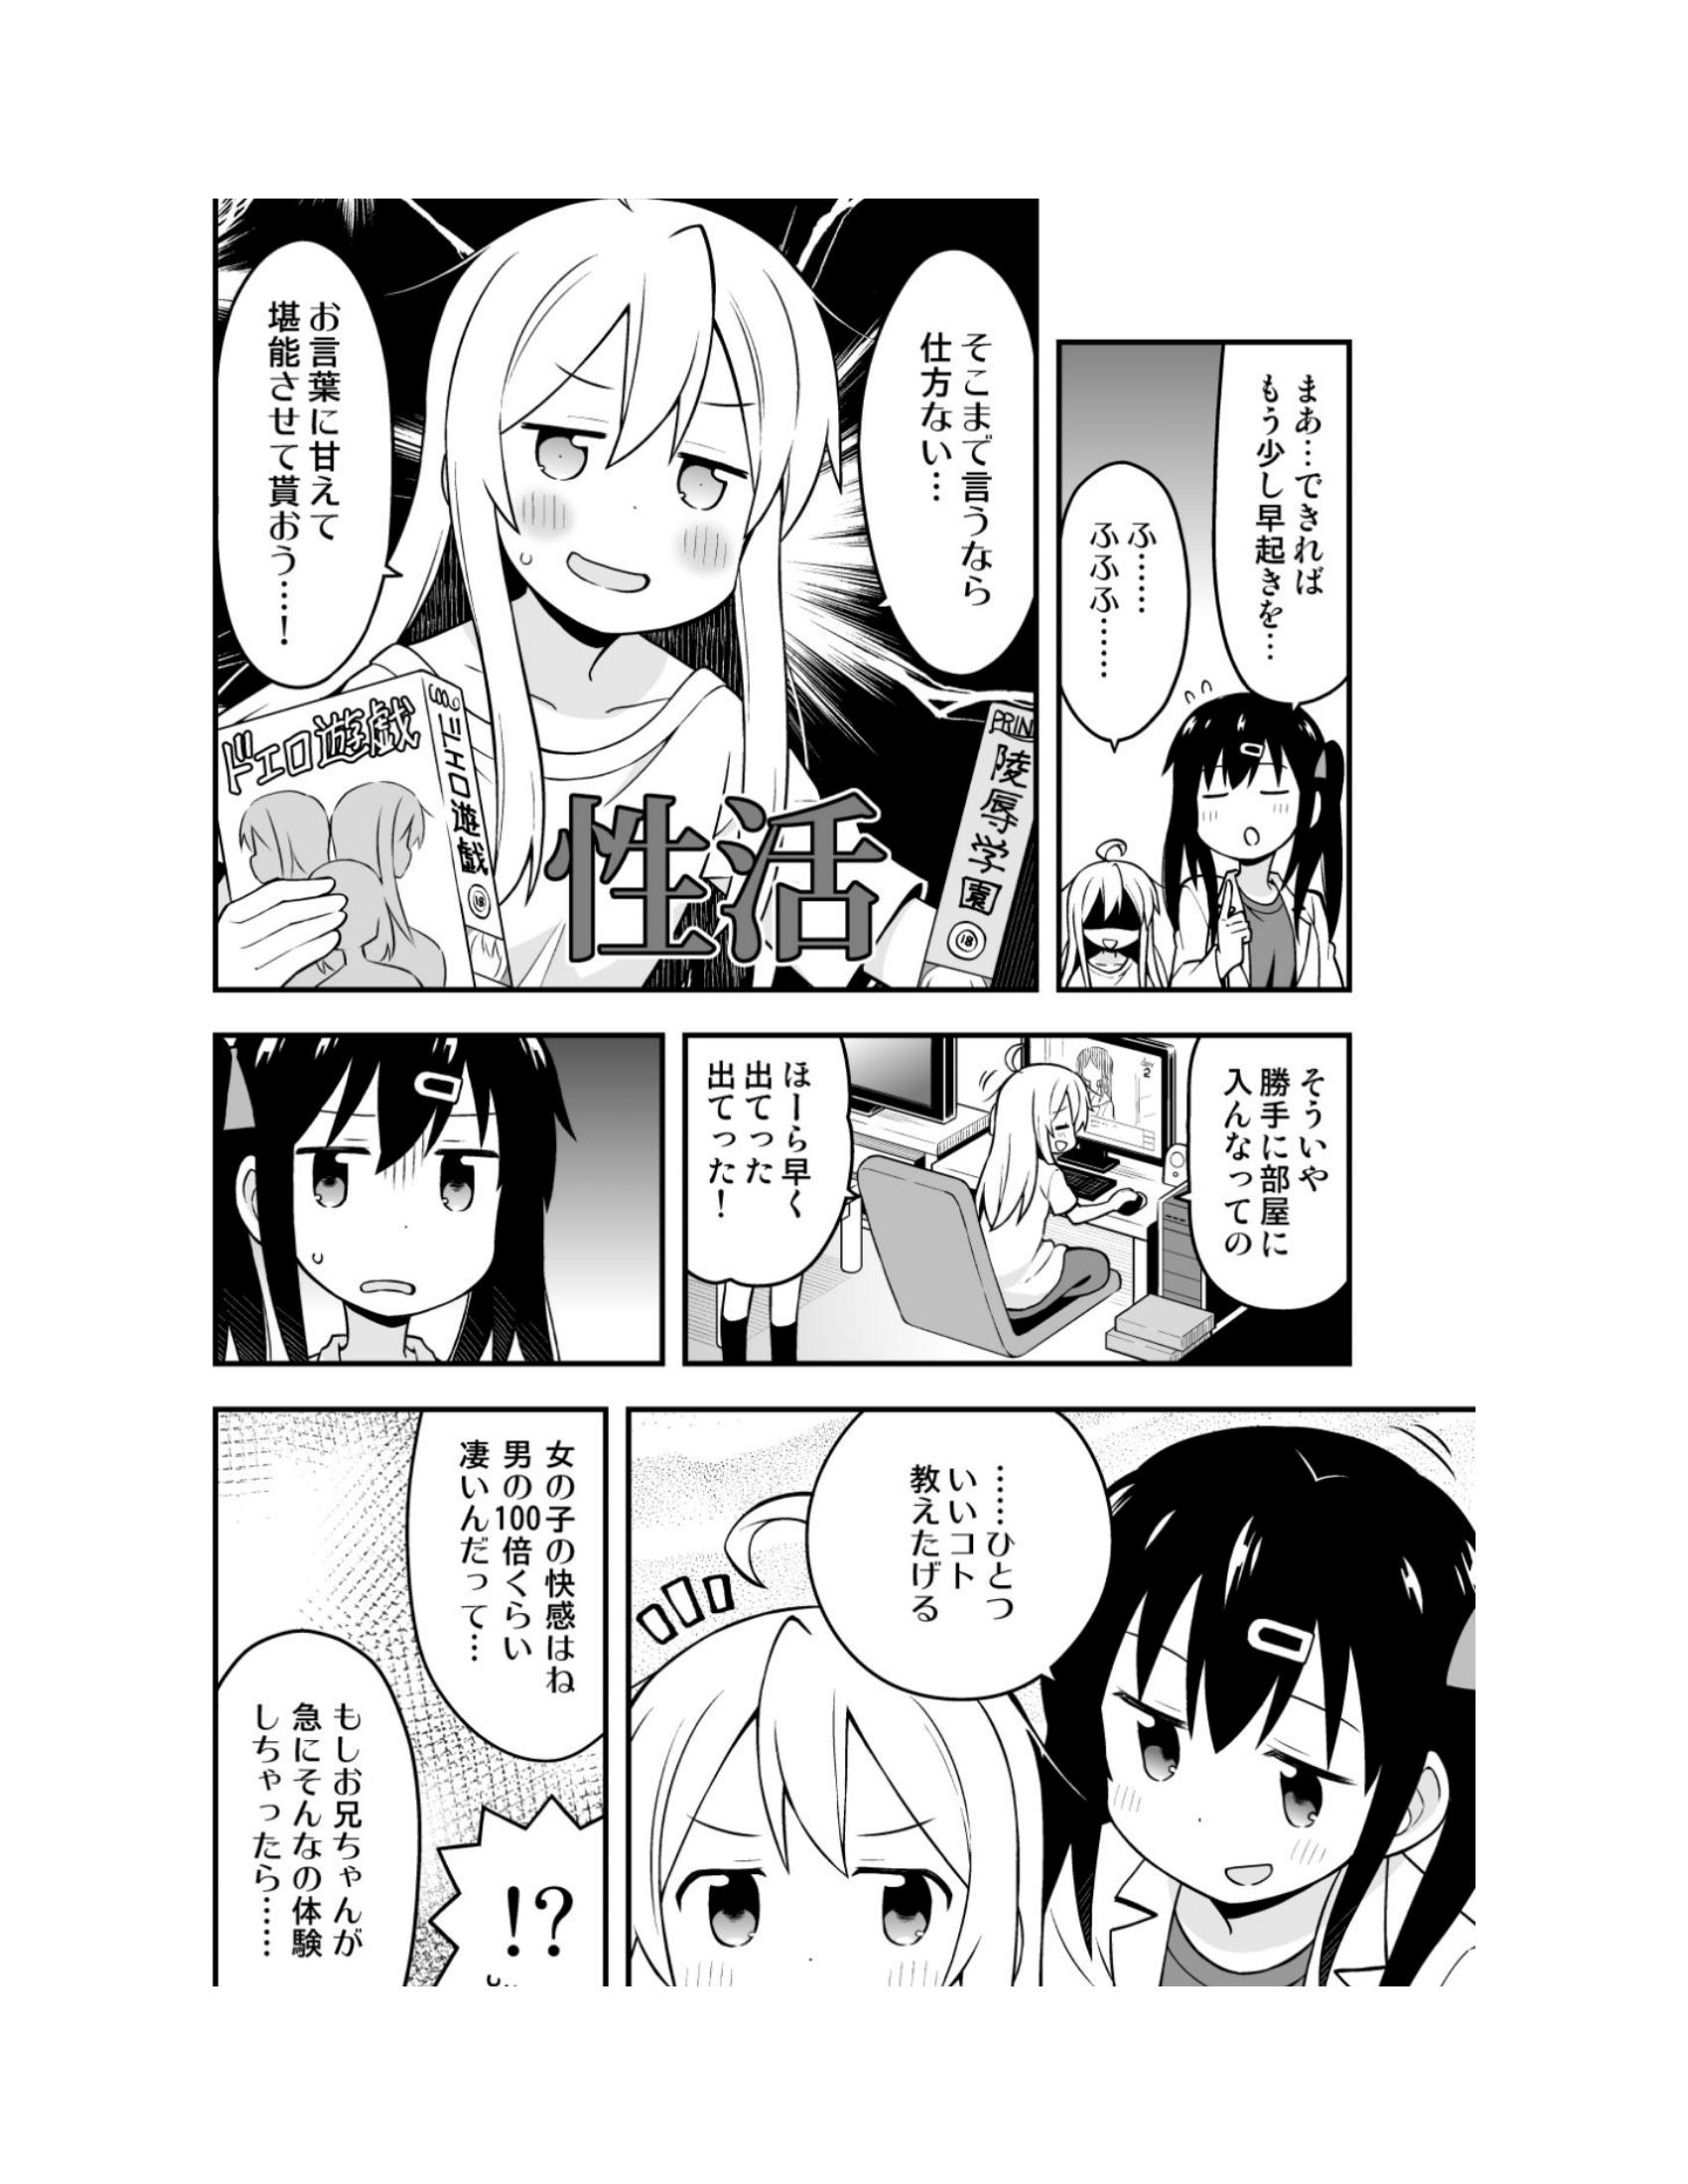a: (793, 1400, 1110, 1696), (395, 1420, 624, 1780), (849, 259, 1035, 677), (200, 252, 379, 674), (231, 1633, 433, 1989), (1213, 340, 1351, 700), (1190, 1030, 1339, 1308), (688, 1033, 844, 1292), (1069, 445, 1163, 720)
